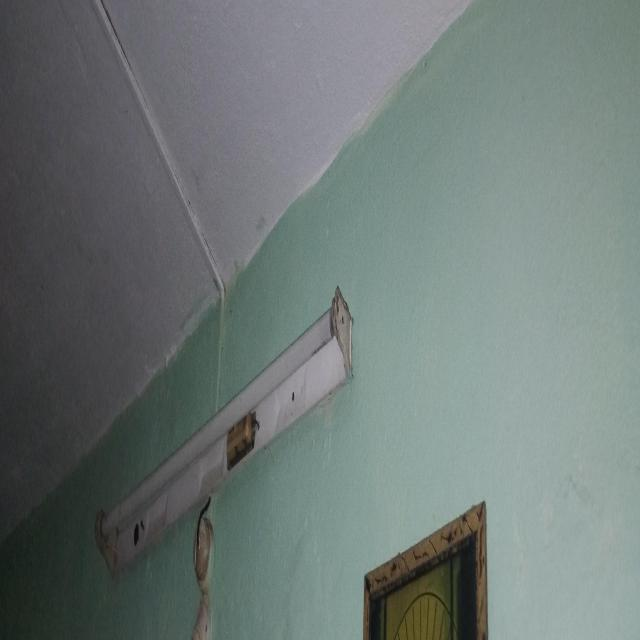tubelight_off: (93, 273, 359, 586)
